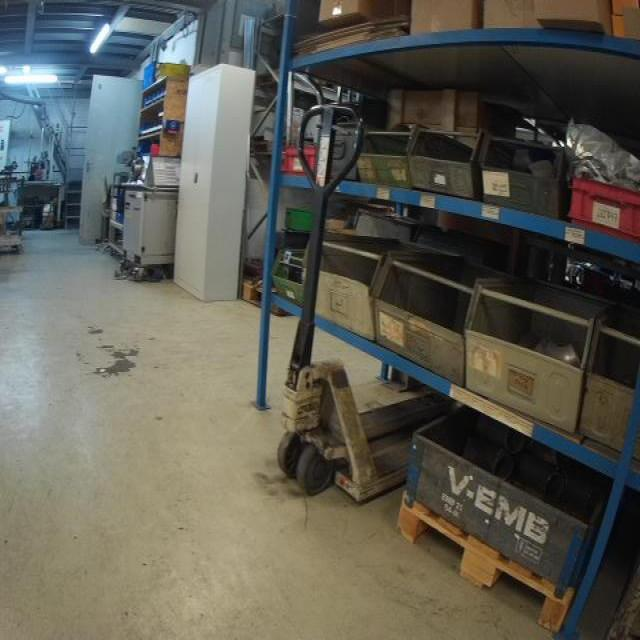pallet: (395, 490, 576, 630), (240, 280, 295, 318)
pallet_truck: (277, 103, 448, 504)
small_load_carrier: (566, 173, 639, 245), (278, 142, 320, 179)
